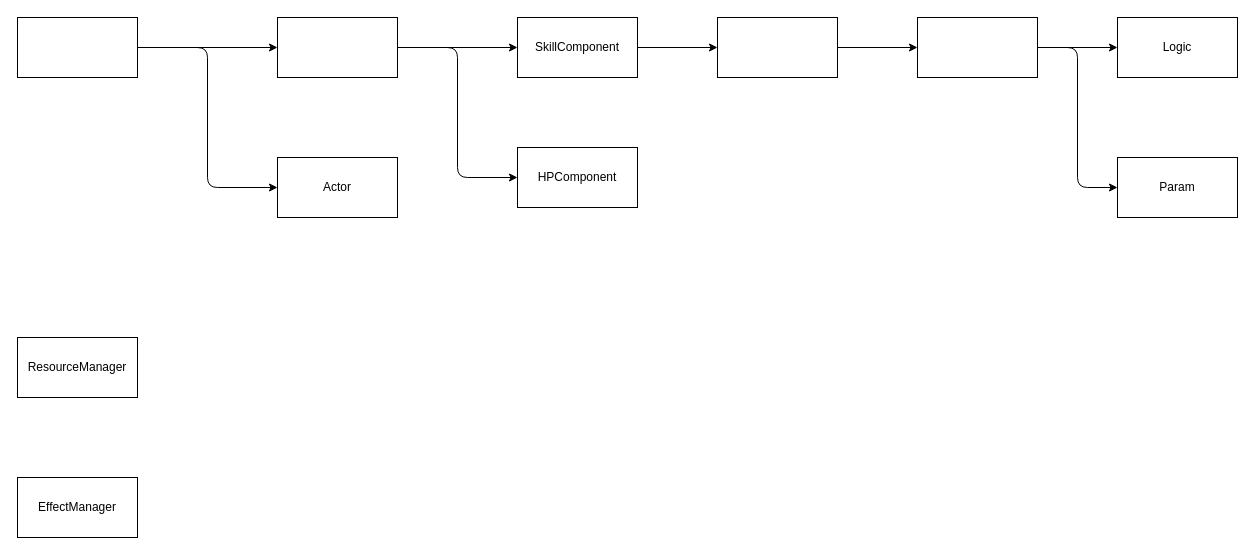
This 1255x555 diagram has some shape labels left out. The shapes that lost their labels are listed below. From the top down, each one's centre as x and y in pixels, then its label:
At point 77,47: "BattleManager".
At point 337,47: "Player".
At point 777,47: "Skill".
At point 977,47: "Action".
